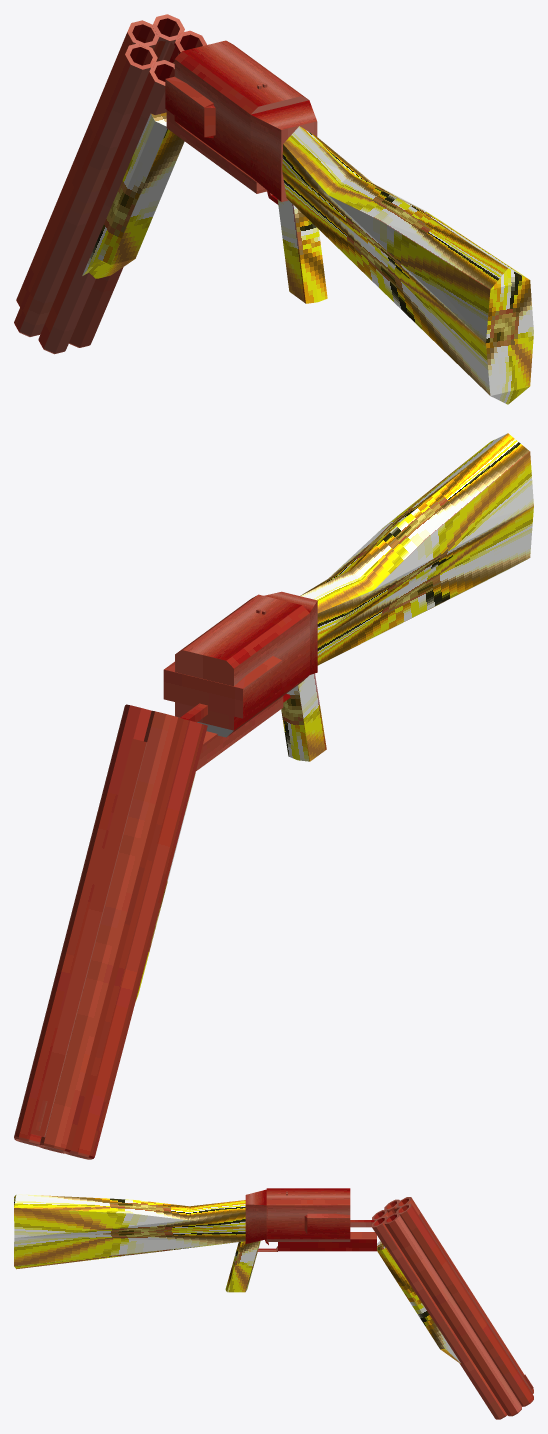
File: six_barrels_shotgun_reloading.obj
The picture shows the model from 3 angles, top to bottom: view 1: azimuth 30°, elevation 25°; view 2: azimuth 150°, elevation 25°; view 3: azimuth 270°, elevation 25°; orthographic projection. The views are drawn at different scales.
Parts seen in each view (by area): view 1: Torus.009_Torus.008, Torus.000; view 2: Torus.009_Torus.008, Torus.000; view 3: Torus.009_Torus.008, Torus.000.
Part boxes in pixels (x1,y1,x2,y2): Torus.009_Torus.008: (165,40,533,404); Torus.000: (14,14,206,354); Torus.009_Torus.008: (163,433,533,770); Torus.000: (14,704,207,1159); Torus.009_Torus.008: (14,1188,376,1292); Torus.000: (372,1197,533,1419).
Size of the model in its own units: 0.6336 by 3.09 by 6.56.
